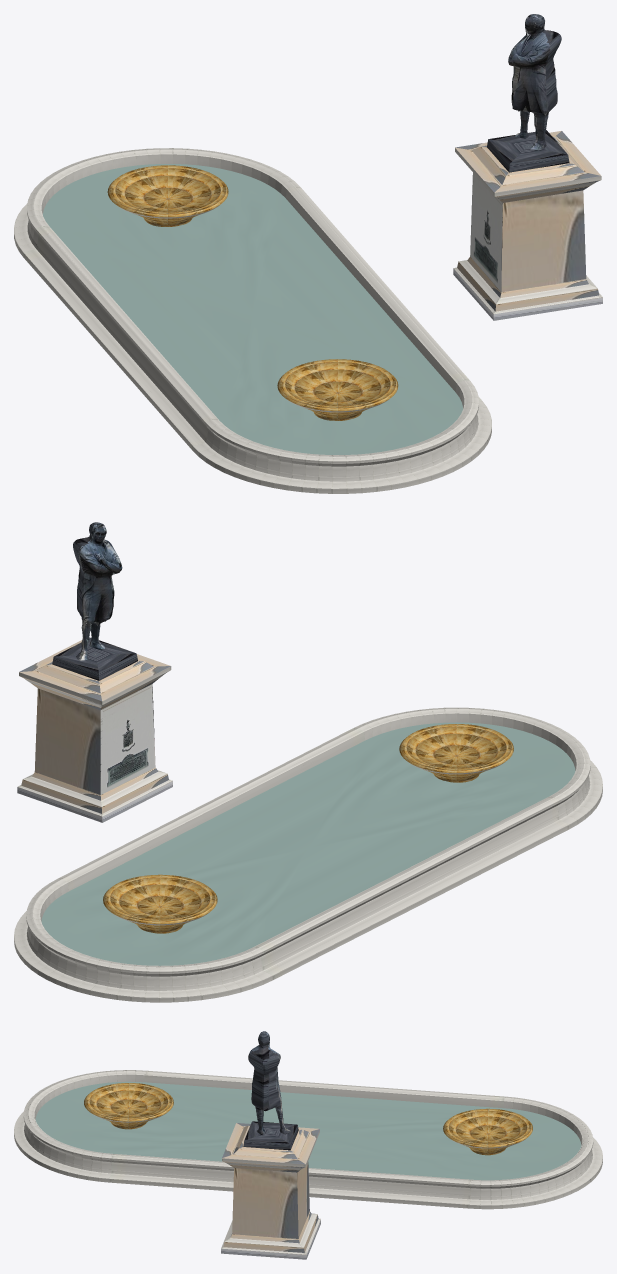
The picture shows the model from 3 angles, top to bottom: view 1: azimuth 30°, elevation 25°; view 2: azimuth 150°, elevation 25°; view 3: azimuth 270°, elevation 25°; orthographic projection. The views are drawn at different scales.
Parts seen in each view (by area): view 1: Empress Place monument and fountain, Fountain water; view 2: Empress Place monument and fountain, Fountain water; view 3: Empress Place monument and fountain, Fountain water.
Part boxes in pixels (x1,y1,x2,y2): Empress Place monument and fountain: (14, 14, 602, 493); Fountain water: (43, 164, 463, 454); Empress Place monument and fountain: (14, 522, 602, 1002); Fountain water: (41, 722, 575, 965); Empress Place monument and fountain: (14, 1031, 602, 1259); Fountain water: (35, 1081, 581, 1180).
Size of what is drawn, in the model's own units: 9.75 by 5.42 by 13.99.
Materials: 2 (1 with a texture image).
